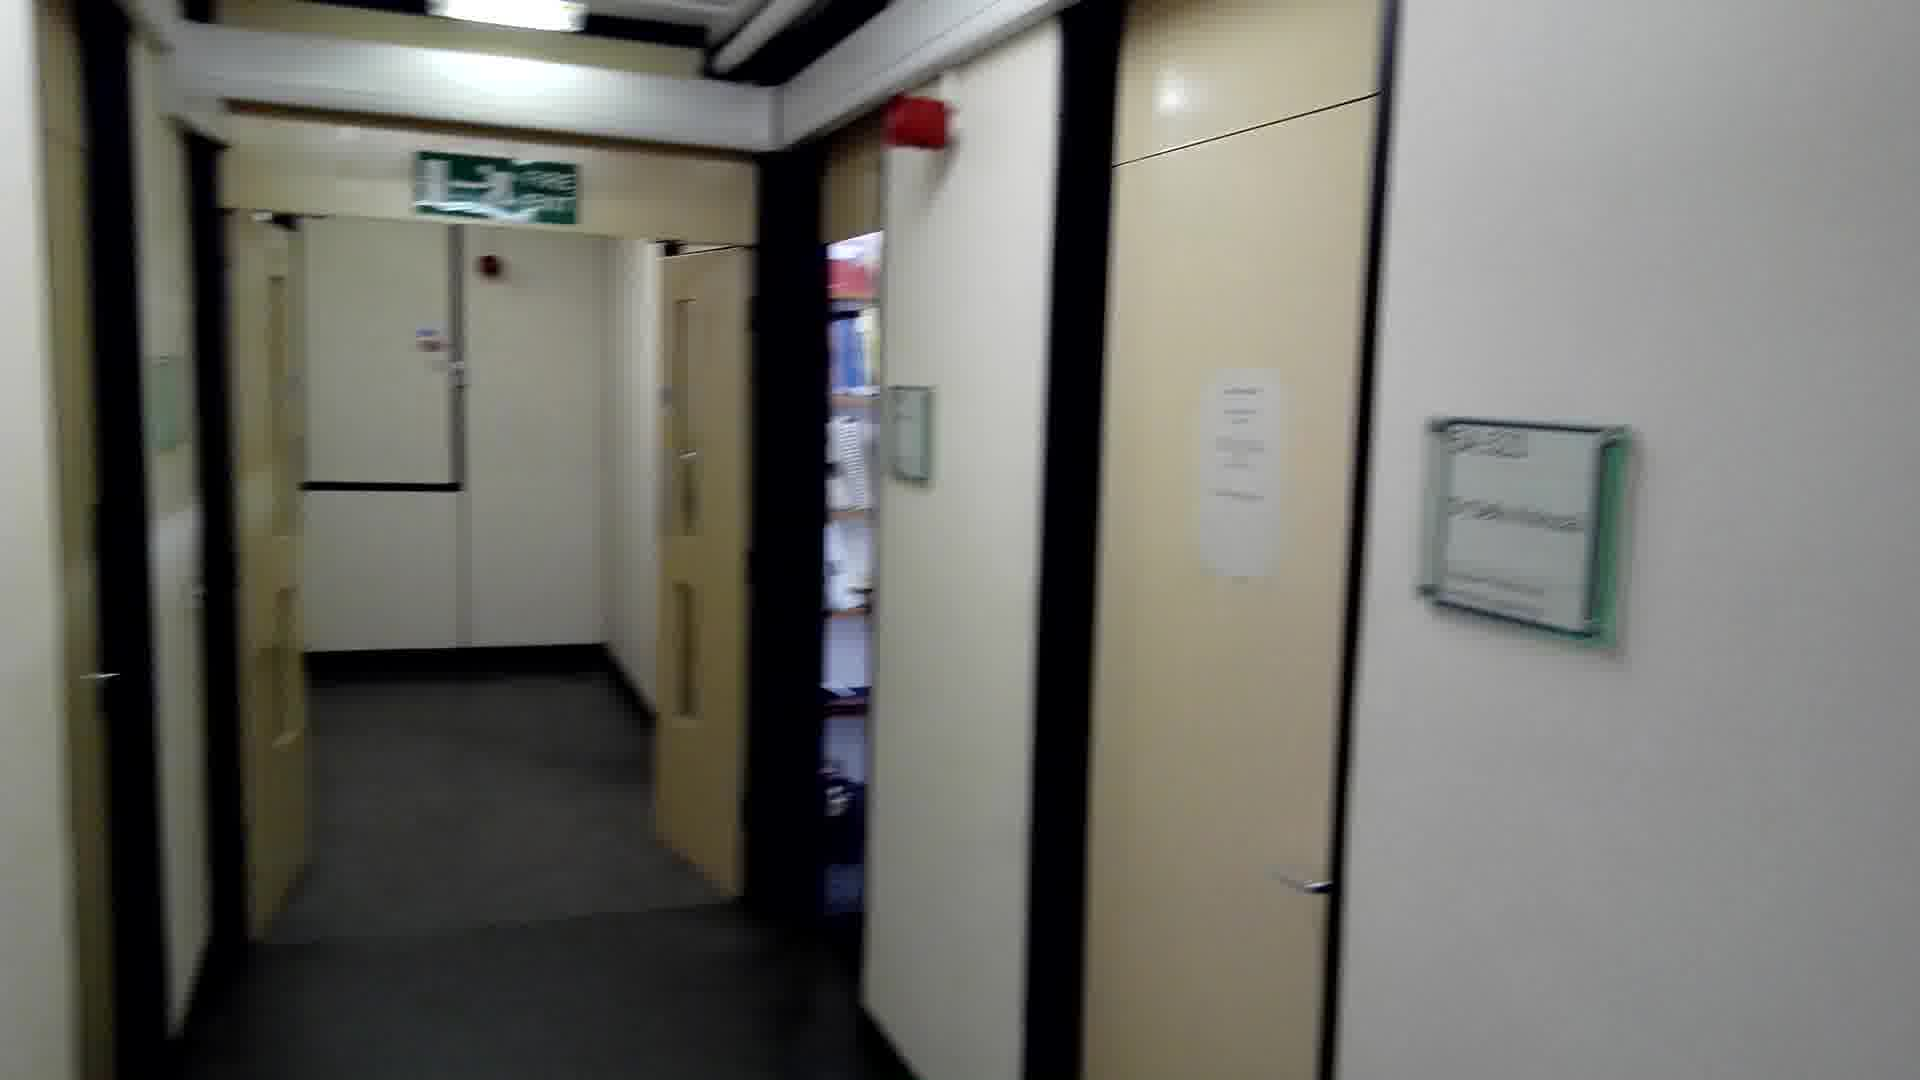Door: (1011, 80, 1418, 1080), (196, 198, 334, 955), (646, 237, 754, 905)
